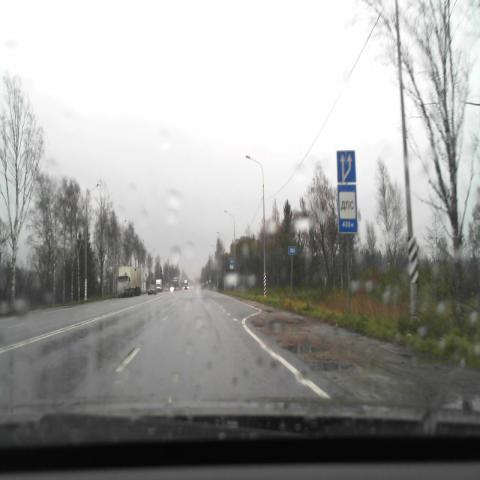5_15_3: (336, 150, 356, 183)
7_12: (337, 185, 357, 233)
